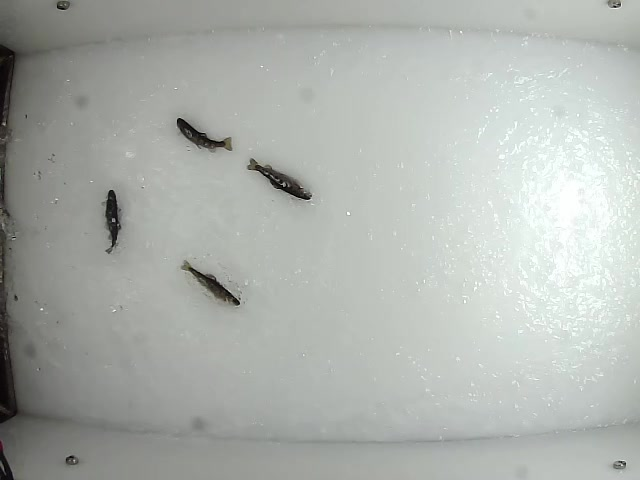fish: (244, 155, 314, 204), (179, 261, 242, 309), (175, 118, 234, 154), (99, 188, 122, 255)
